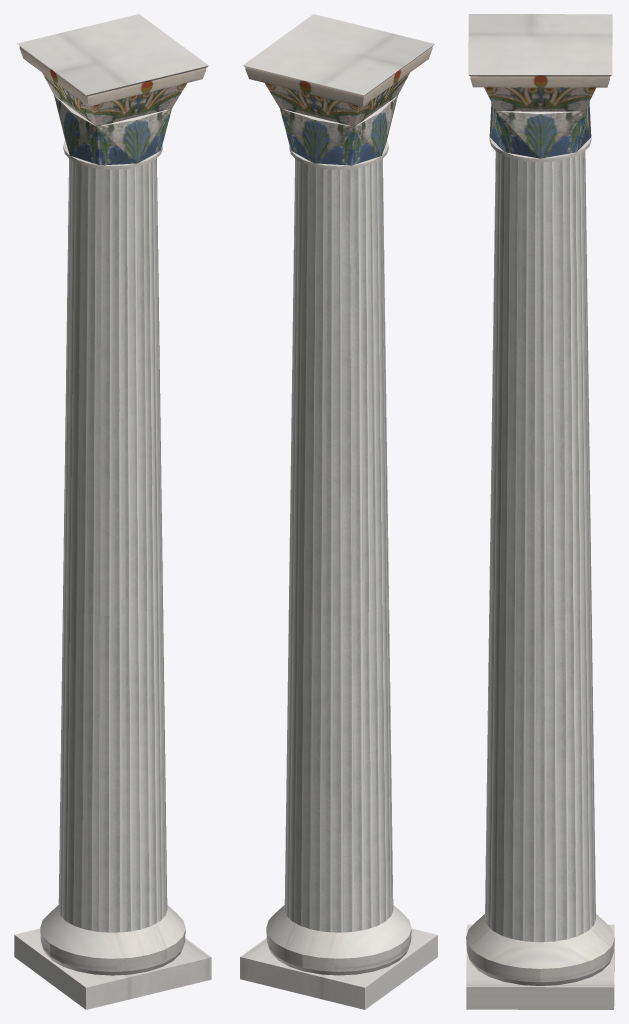
Rendered from libraryColumn2.fbx.
3 renders of one model, left to right at view 1: azimuth 30°, elevation 25°; view 2: azimuth 150°, elevation 25°; view 3: azimuth 270°, elevation 25°, orthographic. The views are drawn at different scales.
Parts seen in each view (by area): view 1: Model; view 2: Model; view 3: Model.
Boxes of the visible parts, x1,y1,x2,y2 form: Model: (14,14,211,1009); Model: (240,14,437,1009); Model: (466,14,614,1009).
Bounding box in the file's own units: 1231 × 8522 × 1231.
